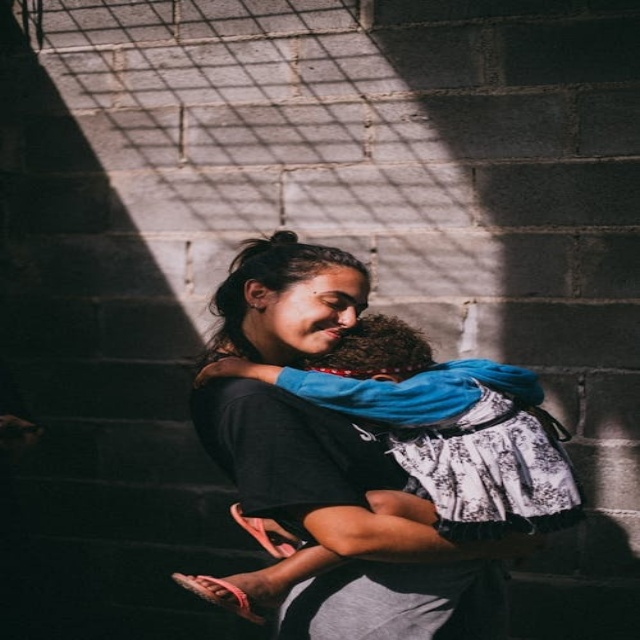Sin_gafas: (291, 292, 362, 311)
Sin_mascara: (292, 326, 342, 346)
